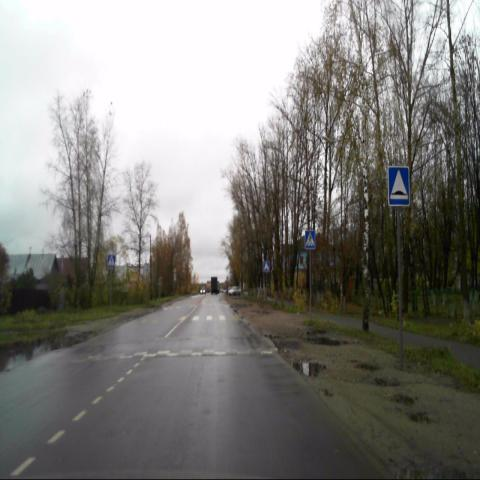5_19_1: (305, 230, 315, 248), (107, 255, 115, 268)
5_20: (388, 166, 410, 206)
